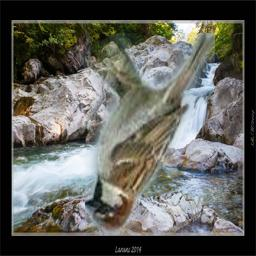Sparrow: (85, 33, 215, 233)
